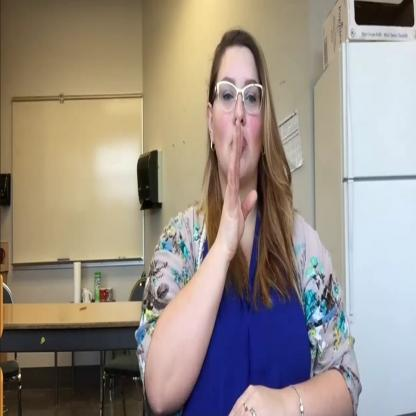Talk: (136, 31, 362, 416)
